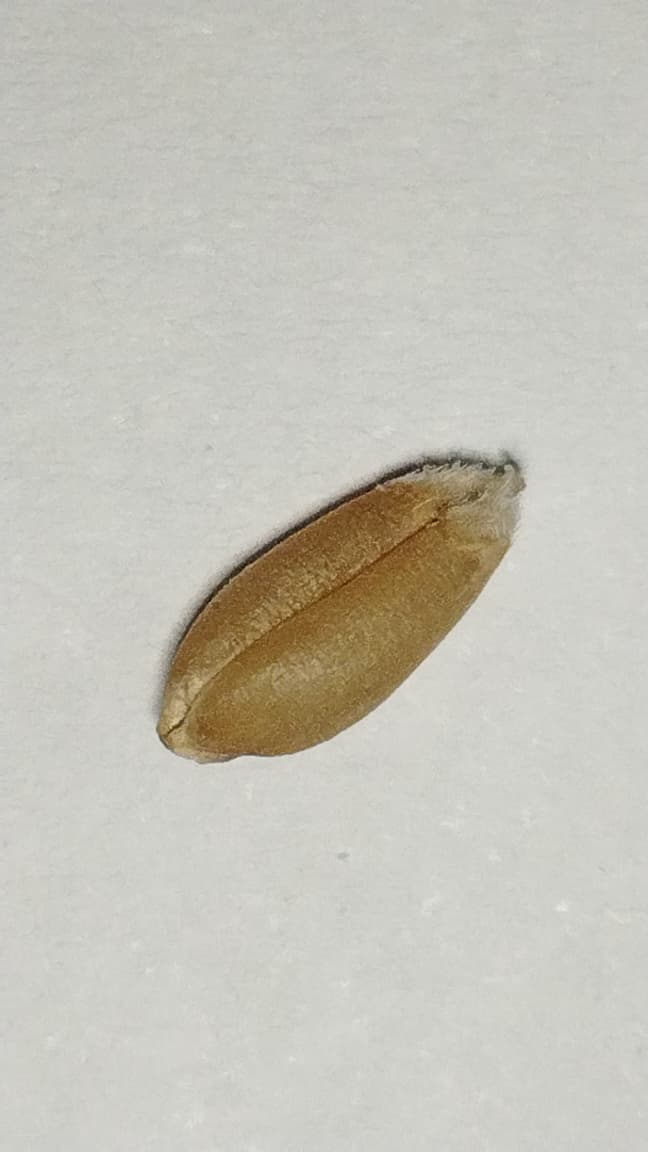healthy: (158, 458, 524, 762)
